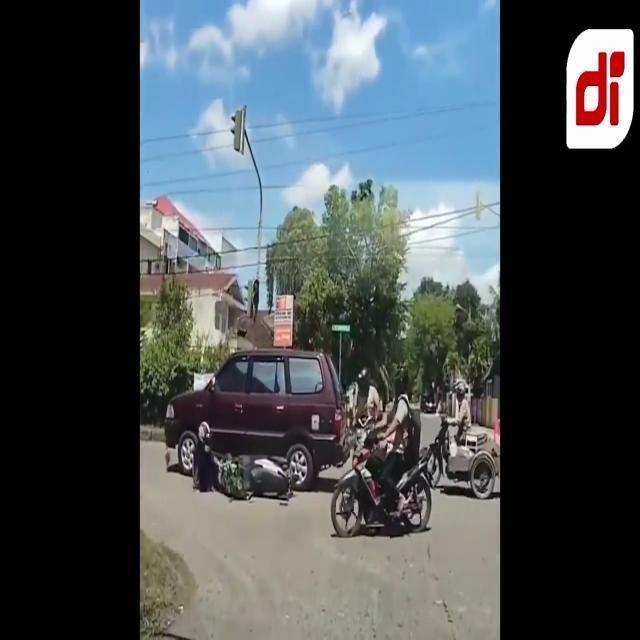accident: (161, 348, 347, 507)
non-accident: (330, 374, 500, 540)
